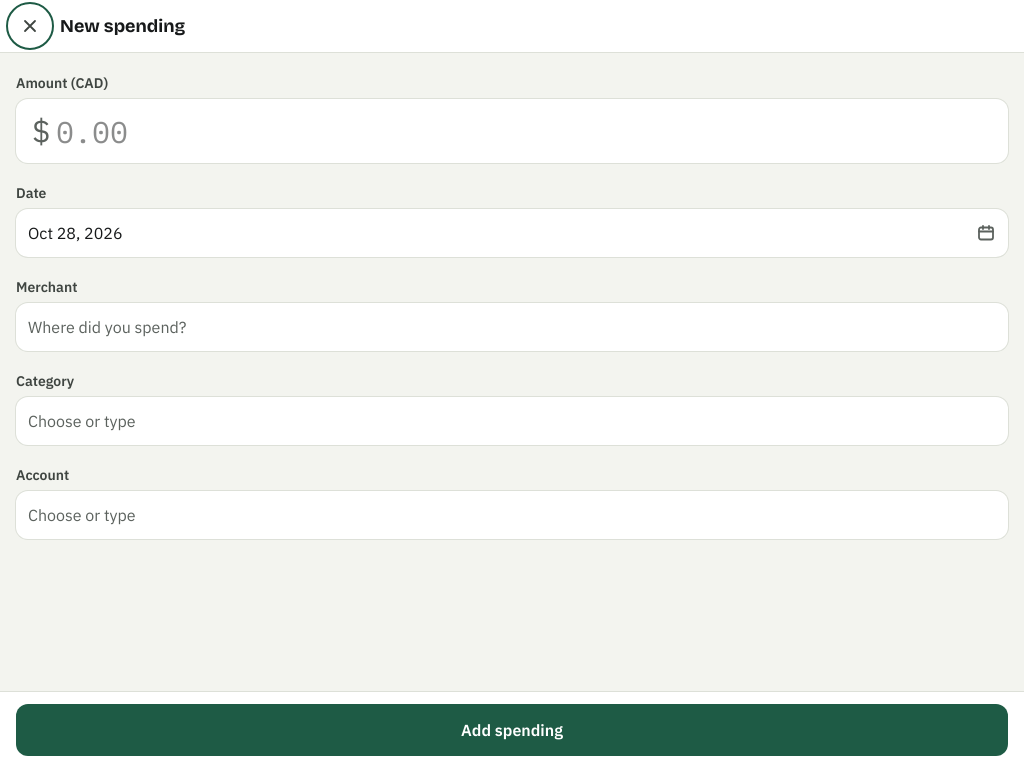
Test case: SpendingForm — add › fills an empty category and account from a picked past merchant
The width and height of the screenshot is (1024, 768).
Type "Cash" into the dropdown labelled "Account" at (512, 515), box left=16, top=491, right=1008, bottom=539
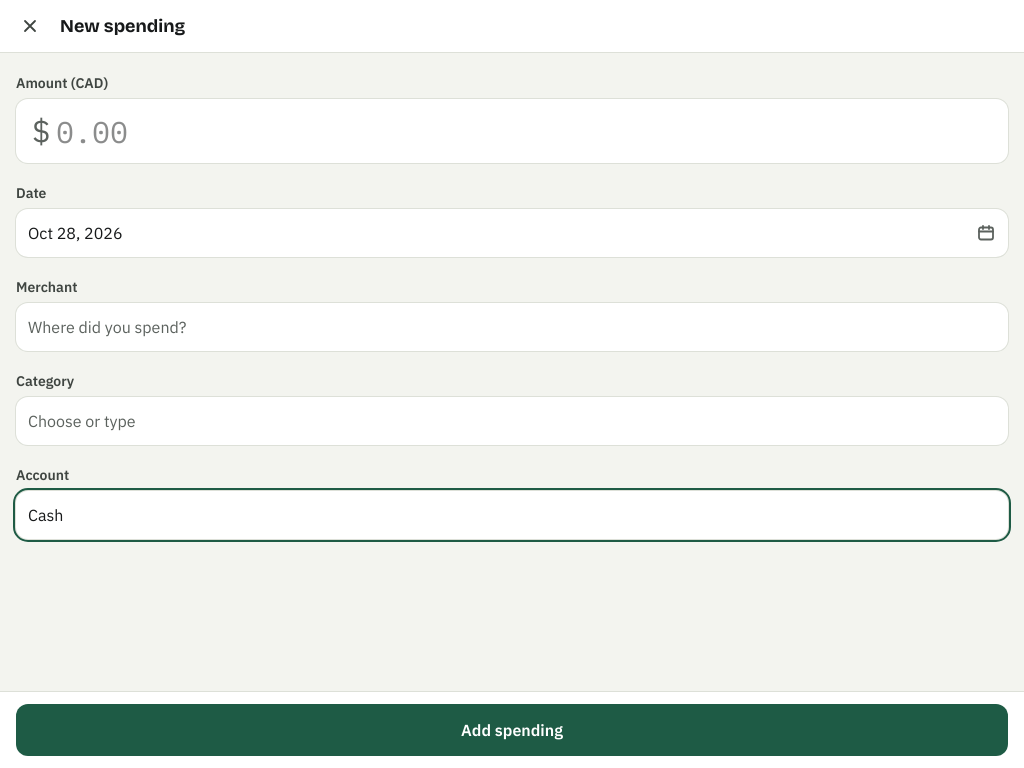
Type "nei" into the dropdown labelled "Merchant" at (512, 327), box left=16, top=303, right=1008, bottom=351
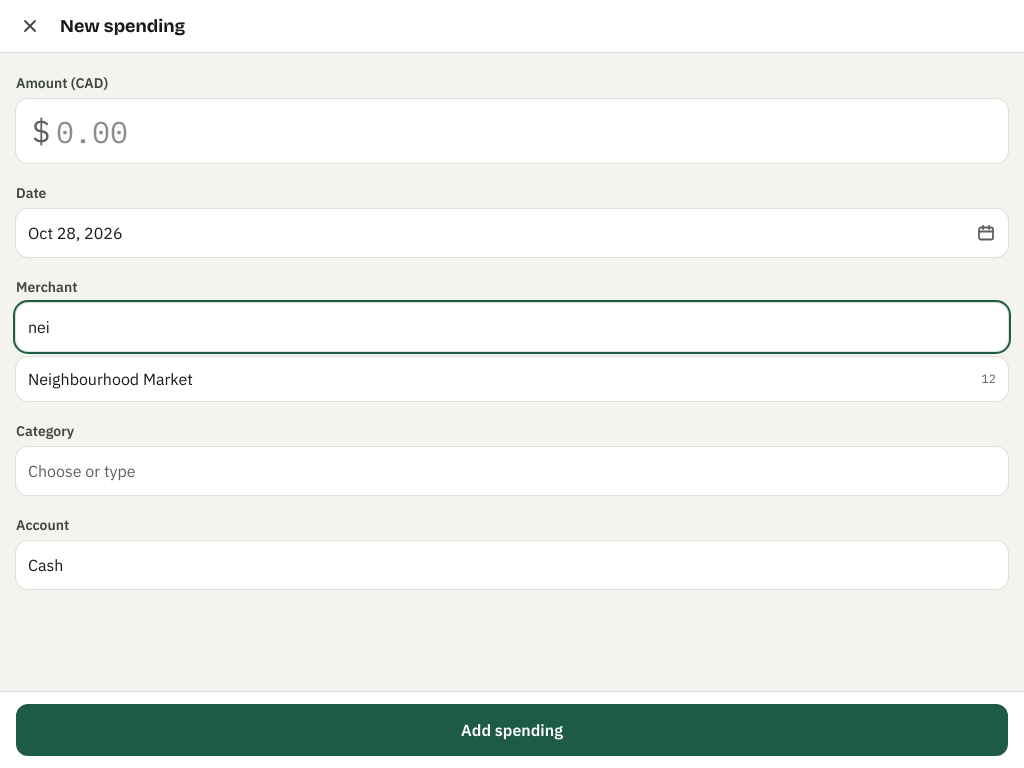
Click the option "Neighbourhood Market 12" at (110, 379), box left=28, top=369, right=996, bottom=389
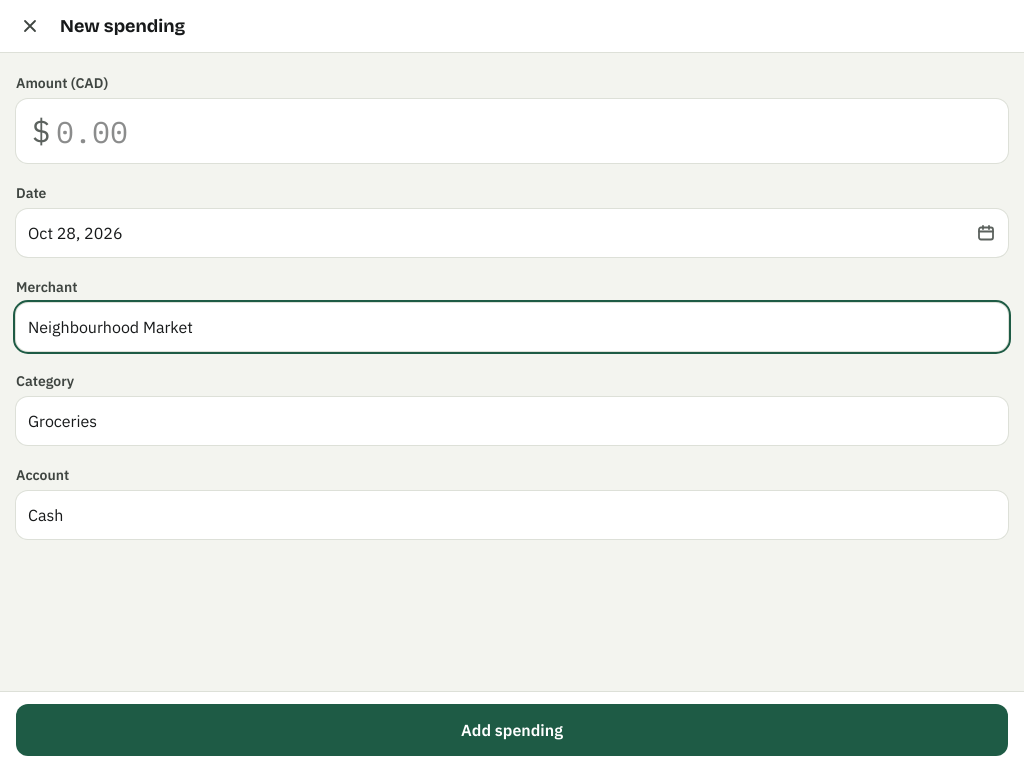
Now the dropdown labelled "Merchant" holds "Neighbourhood Market", box left=16, top=303, right=1008, bottom=351
Now the dropdown labelled "Category" holds "Groceries", box left=16, top=397, right=1008, bottom=445
